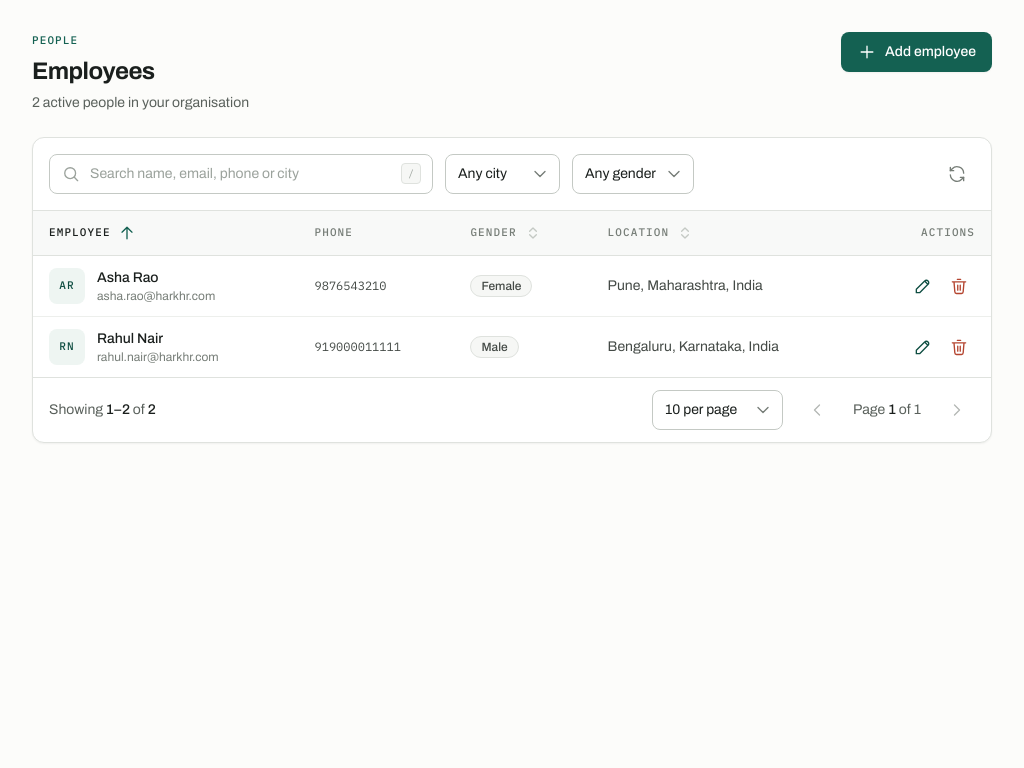
Test: EmployeesPage — deleting › asks first, and names the person it is about to remove
Expected: the heading "Employees" is shown, [32, 58, 155, 84]
Expected: the button "Asha Rao" is shown, [97, 268, 158, 288]
Click the button named "Delete Rahul Nair": (959, 346) [943, 330, 975, 362]
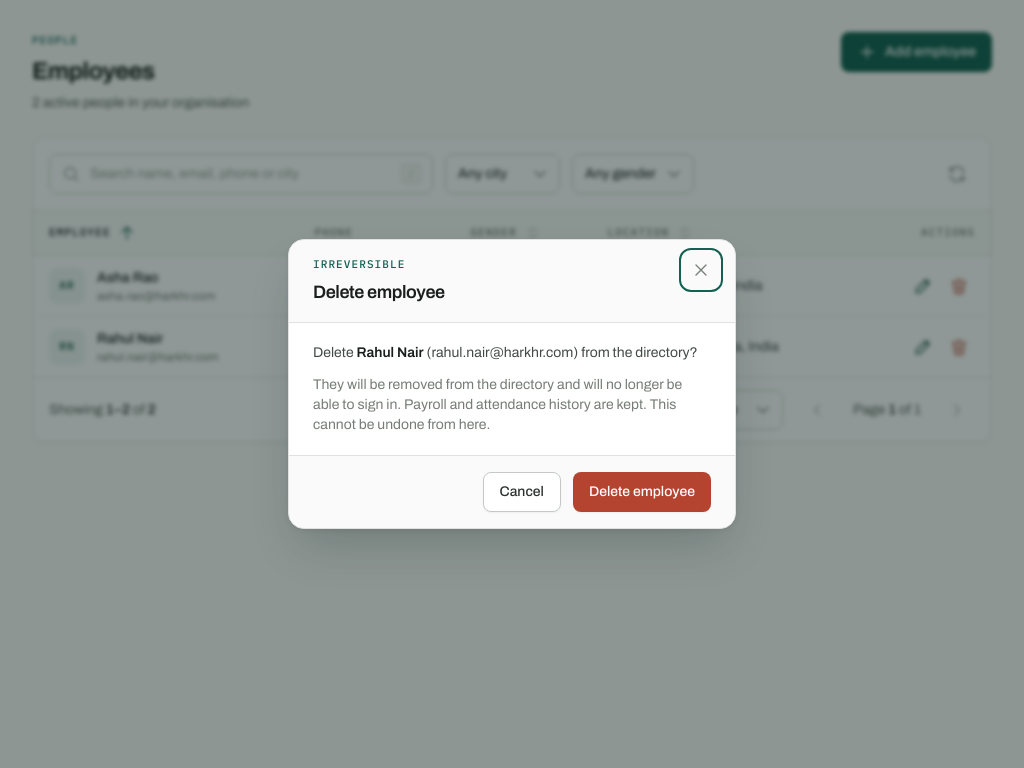
Now the dialog shows "Rahul Nair", box [356, 345, 424, 360]
Now the dialog shows "cannot be undone", box [313, 377, 682, 432]
